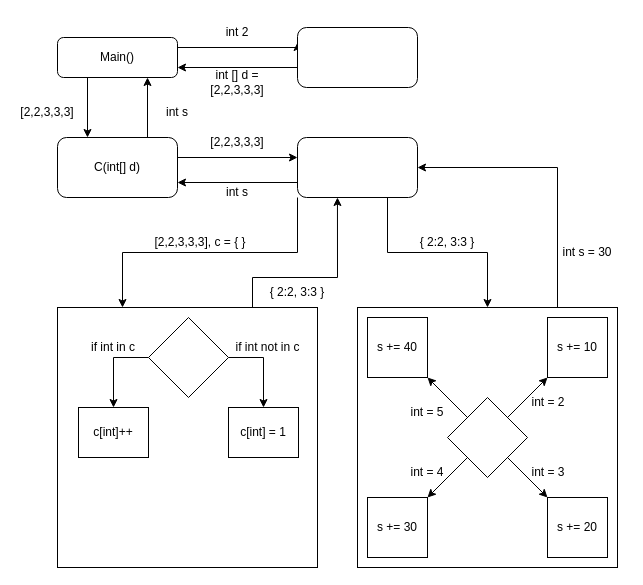
Some shapes in this 643 by 585 pixel diagram are drawn without their labels. Here are the shapes that lost their labels. From the top down, the box of each, then its label:
(296, 26, 418, 88): INIT int[] R
(296, 136, 418, 198): for each
(148, 316, 228, 398): for each int in [ ]
(446, 396, 528, 478): for each val in { }
